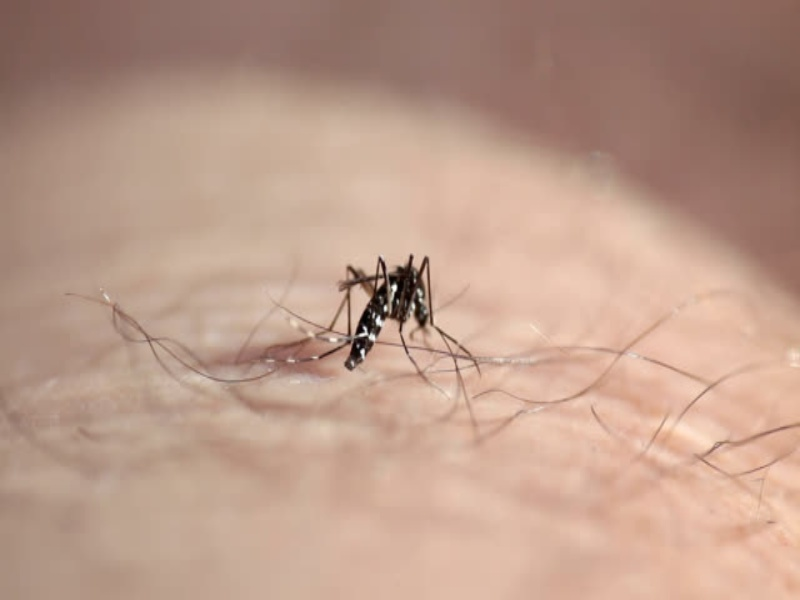dengue_mosquito: (312, 256, 458, 371)
